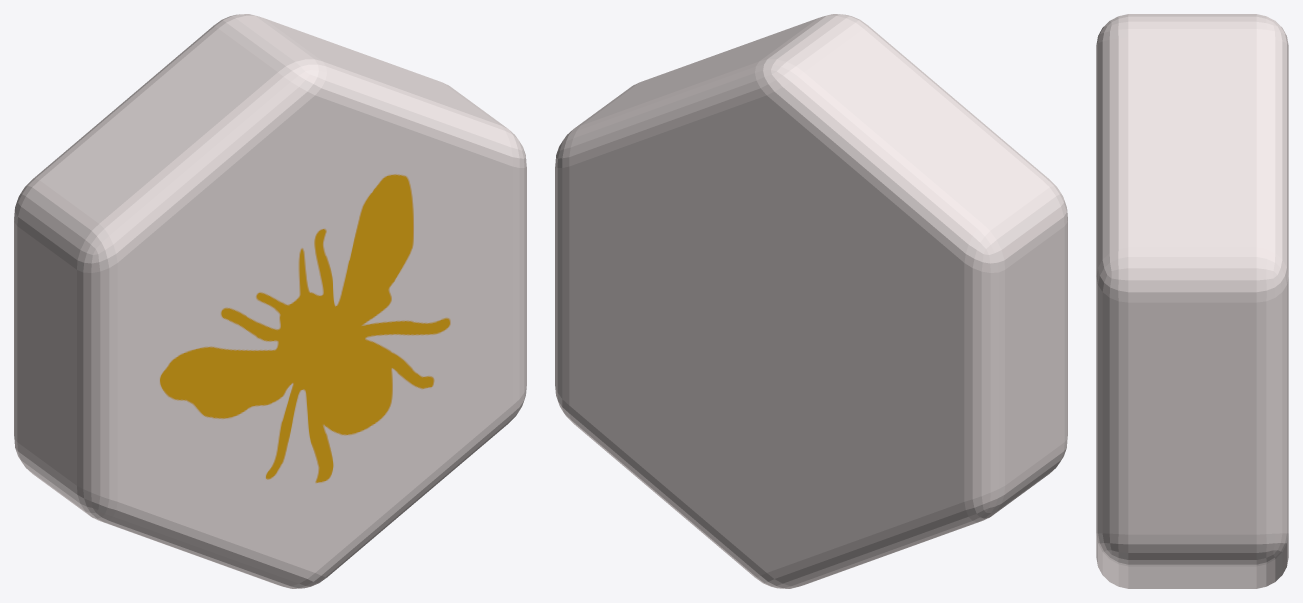
3 views of the same model, side by side, from view 1: azimuth 30°, elevation 25°; view 2: azimuth 150°, elevation 25°; view 3: azimuth 270°, elevation 25° (orthographic). The views are drawn at different scales.
Visible parts, largest first — view 1: wQ; view 2: wQ; view 3: wQ.
Boxes of the visible parts, <box> form: wQ: <box>14,14,526,588</box>; wQ: <box>555,14,1067,588</box>; wQ: <box>1096,14,1288,588</box>.
Size of the model in its own units: 0.0866 by 0.0973 by 0.03.
1 material, 1 textured.
